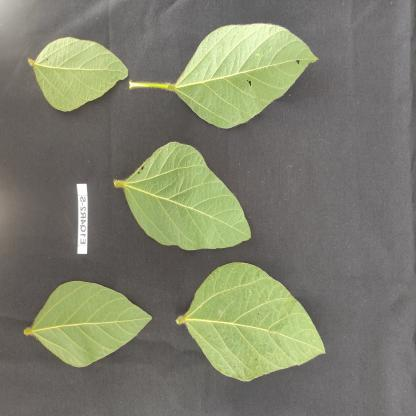label: (72, 178, 90, 256)
leaflets: (173, 266, 309, 406), (0, 265, 154, 385), (165, 19, 325, 131), (110, 150, 266, 244), (12, 29, 130, 126)
